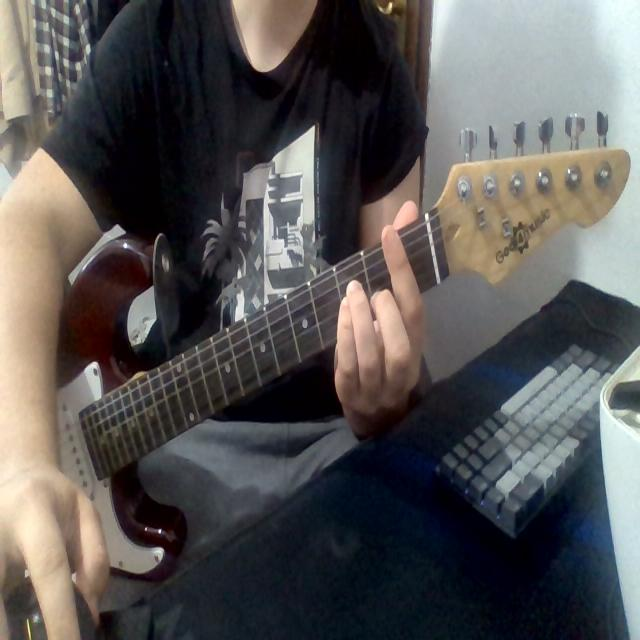Bm: (307, 205, 427, 393)
